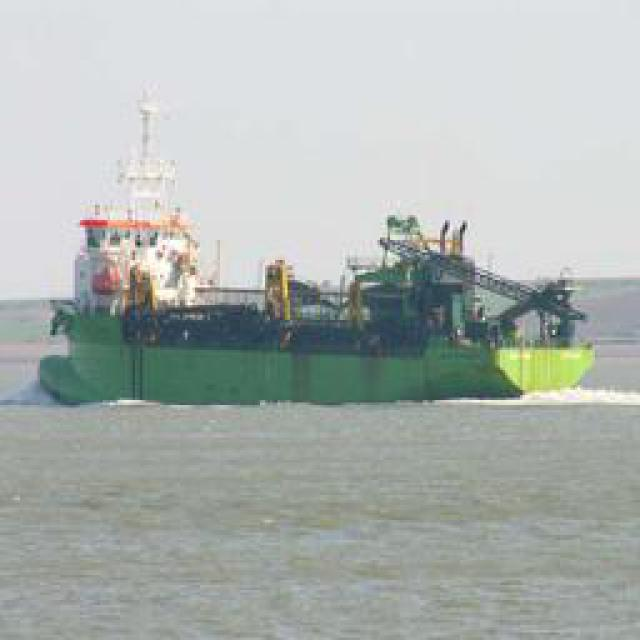Ship: (26, 76, 612, 418)
